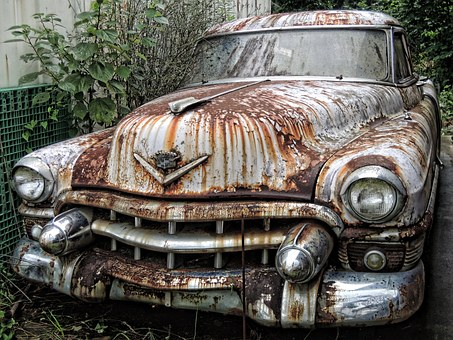rust: (129, 84, 319, 192), (85, 248, 282, 318), (61, 193, 338, 227), (76, 129, 120, 186), (343, 156, 400, 174), (394, 280, 422, 315), (307, 12, 376, 24)
